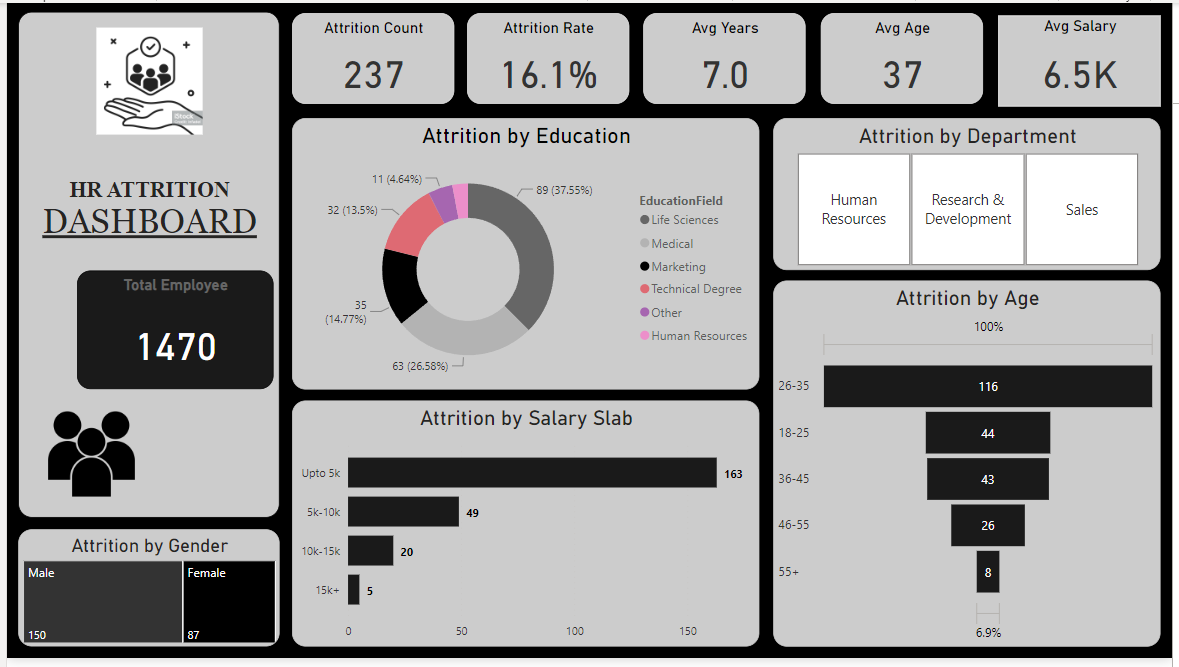

This screenshot's page, from the dashboard's own definition file:
{"tool":"powerbi","page":{"name":"Page 1","canvas":[1280,720],"ordinal":0},"visuals":[{"type":"card","title":"Avg Years","fields":{"Values":["Avg(HR_Analysis__.YearsAtCompany)"]},"box":[699.2,11,178.6,100.3],"z":0},{"type":"card","title":"Avg Salary","fields":{"Values":["Avg(HR_Analysis__.MonthlyIncome)"]},"box":[1089.3,13.7,178.6,100.3],"z":1000},{"type":"card","title":"Avg Age","fields":{"Values":["Avg(HR_Analysis__.Age)"]},"box":[894.3,11,178.6,100.3],"z":2000},{"type":"card","title":"Attrition Rate","fields":{"Values":["HR_Analysis__.Attrition Rate"]},"box":[505.5,11,178,100.3],"z":3000},{"type":"card","title":"Attrition Count","fields":{"Values":["Sum(HR_Analysis__.Attrition_count)"]},"box":[313.2,11,178,100.3],"z":4000},{"type":"donutChart","title":" Attrition by Education","fields":{"Y":["Sum(HR_Analysis__.Attrition_count)"],"Category":["HR_Analysis__.EducationField"]},"box":[313.2,126.4,513.8,298.1],"z":5000},{"type":"slicer","title":"Attrition by Department","fields":{"Values":["HR_Analysis__.Department"]},"box":[842.1,126.4,425.8,167.6],"z":6000},{"type":"textbox","box":[12.4,9.6,287.1,556.3],"z":7000},{"type":"image","box":[0,436.8,185.4,115.4],"z":8000},{"type":"card","title":"Total Employee","fields":{"Values":["Count(HR_Analysis__.EmpID)"]},"box":[76.9,294,215.7,130.5],"z":9000},{"type":"image","box":[93.4,20.6,126.4,130.5],"z":10000},{"type":"clusteredBarChart","title":" Attrition by Salary Slab","fields":{"Category":["HR_Analysis__.SalarySlab"],"Y":["Sum(HR_Analysis__.Attrition_count)"]},"box":[313.2,436.8,513.8,270.6],"z":11000},{"type":"funnel","title":" Attrition by Age","fields":{"Category":["HR_Analysis__.AgeGroup"],"Y":["Sum(HR_Analysis__.Attrition_count)"]},"box":[842.1,305,425.8,402.5],"z":12000},{"type":"treemap","title":"Attrition by Gender","fields":{"Group":["HR_Analysis__.Gender"],"Values":["Sum(HR_Analysis__.Attrition_count)"]},"box":[12.4,578.3,287.1,129.1],"z":13000}]}

Visuals, with their boxes in screenshot pixels (x1, y1, x2, y2), scaled from the page's 1280x720 canvas onto the 1179x667 screenshot:
"Avg Years" card: <region>644, 10, 809, 103</region>
"Avg Salary" card: <region>1003, 13, 1168, 106</region>
"Avg Age" card: <region>824, 10, 988, 103</region>
"Attrition Rate" card: <region>466, 10, 630, 103</region>
"Attrition Count" card: <region>288, 10, 452, 103</region>
" Attrition by Education" donutChart: <region>288, 117, 762, 393</region>
"Attrition by Department" slicer: <region>776, 117, 1168, 272</region>
textbox: <region>11, 9, 276, 524</region>
image: <region>0, 405, 171, 512</region>
"Total Employee" card: <region>71, 272, 270, 393</region>
image: <region>86, 19, 202, 140</region>
" Attrition by Salary Slab" clusteredBarChart: <region>288, 405, 762, 655</region>
" Attrition by Age" funnel: <region>776, 283, 1168, 655</region>
"Attrition by Gender" treemap: <region>11, 536, 276, 655</region>
